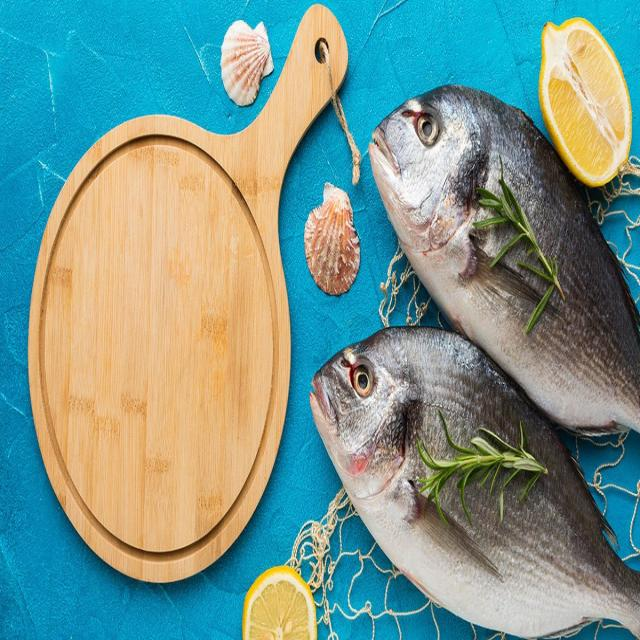pescado: (361, 68, 640, 473), (312, 312, 640, 640)
